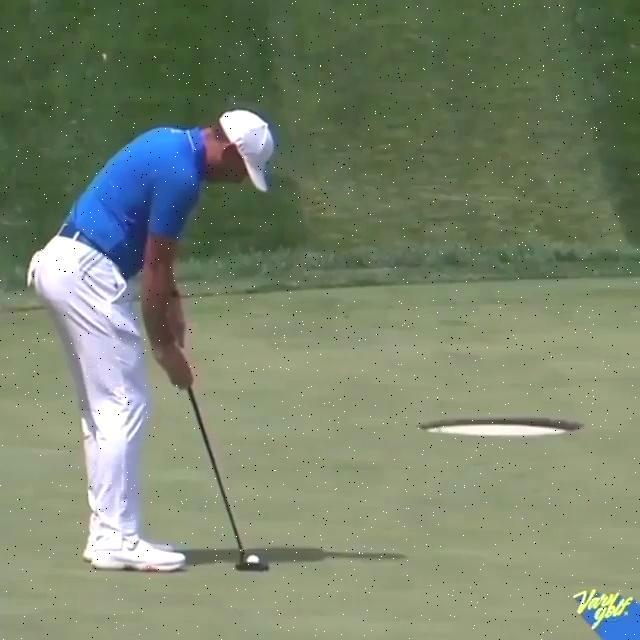golf ball: (246, 554, 260, 563)
golf club-handle: (186, 386, 269, 572)
golf club-head: (233, 562, 270, 571)
